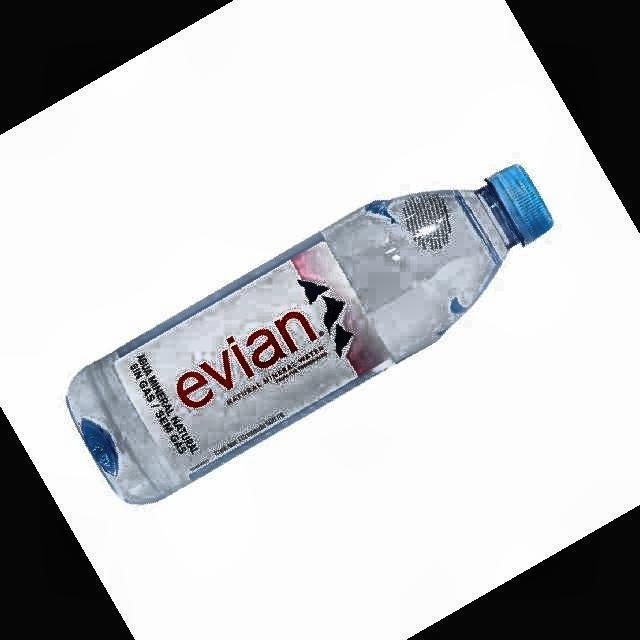plastic: (66, 165, 552, 503)
